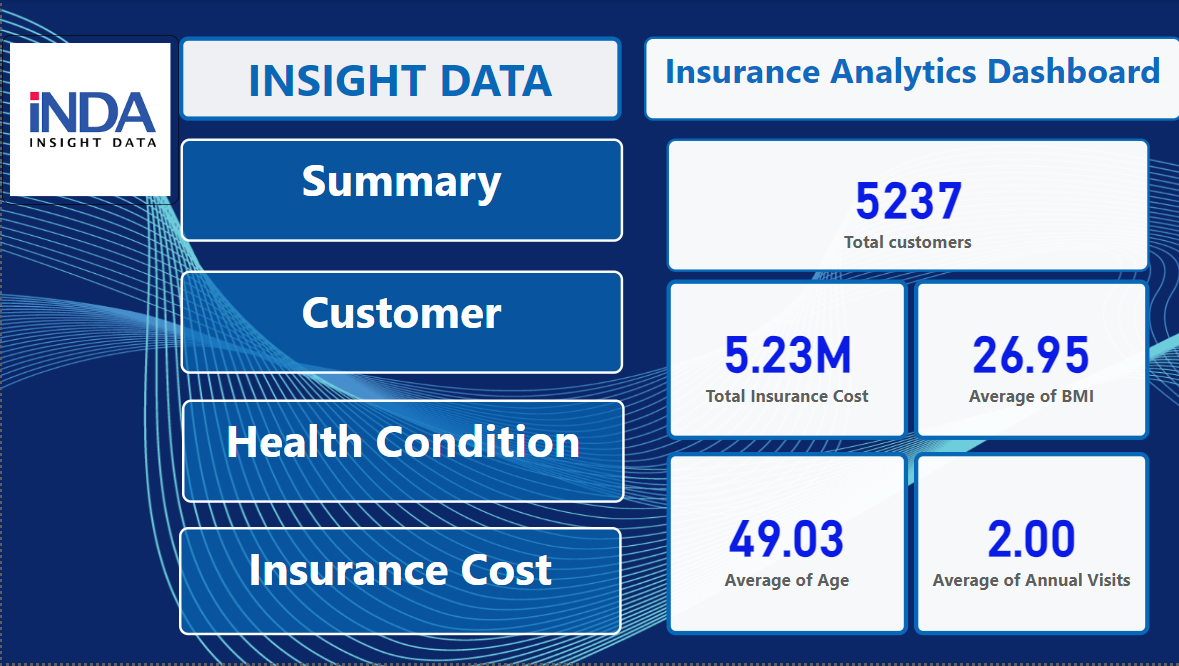

This screenshot's page, from the dashboard's own definition file:
{"tool":"powerbi","page":{"name":"Home Page","canvas":[1280,720],"ordinal":0},"visuals":[{"type":"image","box":[0,39,191.9,183.8],"z":0},{"type":"textbox","box":[191.9,40.7,479.8,91.1],"z":1000},{"type":"card","fields":{"Values":["Avg(insurance_data_5237 (2).BMI)"]},"box":[988.9,304.2,255.4,174],"z":2000},{"type":"card","fields":{"Values":["Avg(insurance_data_5237 (2).Age)"]},"box":[720.6,491.2,261.9,198.4],"z":3000},{"type":"card","fields":{"Values":["CountNonNull(insurance_data_5237 (2).Customer ID)"]},"box":[720.6,151.3,523.7,144.8],"z":4000},{"type":"card","fields":{"Values":["Avg(insurance_data_5237 (2).Annual Visits)"]},"box":[988.9,491.2,255.4,198.4],"z":5000},{"type":"card","fields":{"Values":["Sum(insurance_data_5237 (2).Insurance Cost)"]},"box":[720.6,304.2,261.9,174],"z":6000},{"type":"textbox","box":[696.2,40.7,583.9,91.1],"z":7000},{"type":"textbox","box":[195.2,434.3,479.8,112.2],"z":8000},{"type":"textbox","box":[193.6,151.3,479.8,112.2],"z":9000},{"type":"textbox","box":[193.6,294.4,479.8,112.2],"z":10000},{"type":"textbox","box":[191.9,572.5,479.8,117.1],"z":11000}]}

Visuals, with their boxes in screenshot pixels (x1, y1, x2, y2), scaled from the page's 1280x720 canvas onto the 1179x666 screenshot:
image: 0,36,177,206
textbox: 177,38,619,122
card - Avg(insurance_data_5237 (2).BMI): 911,281,1146,442
card - Avg(insurance_data_5237 (2).Age): 664,454,905,638
card - CountNonNull(insurance_data_5237 (2).Customer ID): 664,140,1146,274
card - Avg(insurance_data_5237 (2).Annual Visits): 911,454,1146,638
card - Sum(insurance_data_5237 (2).Insurance Cost): 664,281,905,442
textbox: 641,38,1178,122
textbox: 180,402,622,506
textbox: 178,140,620,244
textbox: 178,272,620,376
textbox: 177,530,619,638
